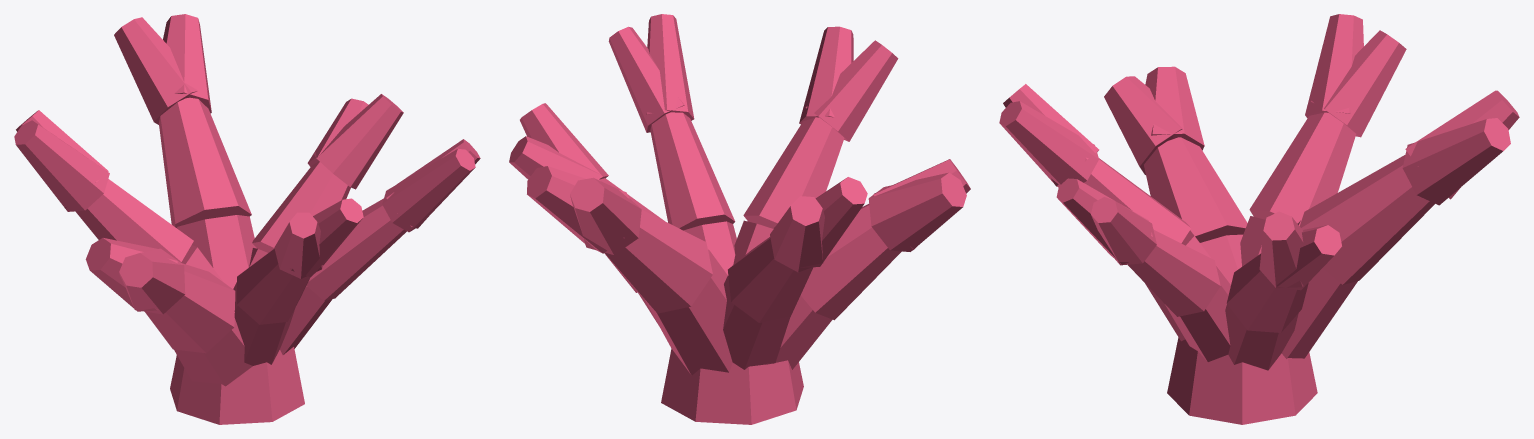
File: coral_001b_branching.glb
The picture shows the model from 3 angles, left to right: view 1: azimuth 30°, elevation 25°; view 2: azimuth 150°, elevation 25°; view 3: azimuth 270°, elevation 25°; orthographic projection. The views are drawn at different scales.
Visible parts, largest first — view 1: coral_001b_branching__mesh; view 2: coral_001b_branching__mesh; view 3: coral_001b_branching__mesh.
Boxes of the visible parts, x1,y1,x2,y2 form: coral_001b_branching__mesh: [14, 14, 480, 424]; coral_001b_branching__mesh: [509, 14, 970, 424]; coral_001b_branching__mesh: [999, 14, 1519, 424].
Size of the model in its own units: 1.37 by 1.04 by 1.58.
